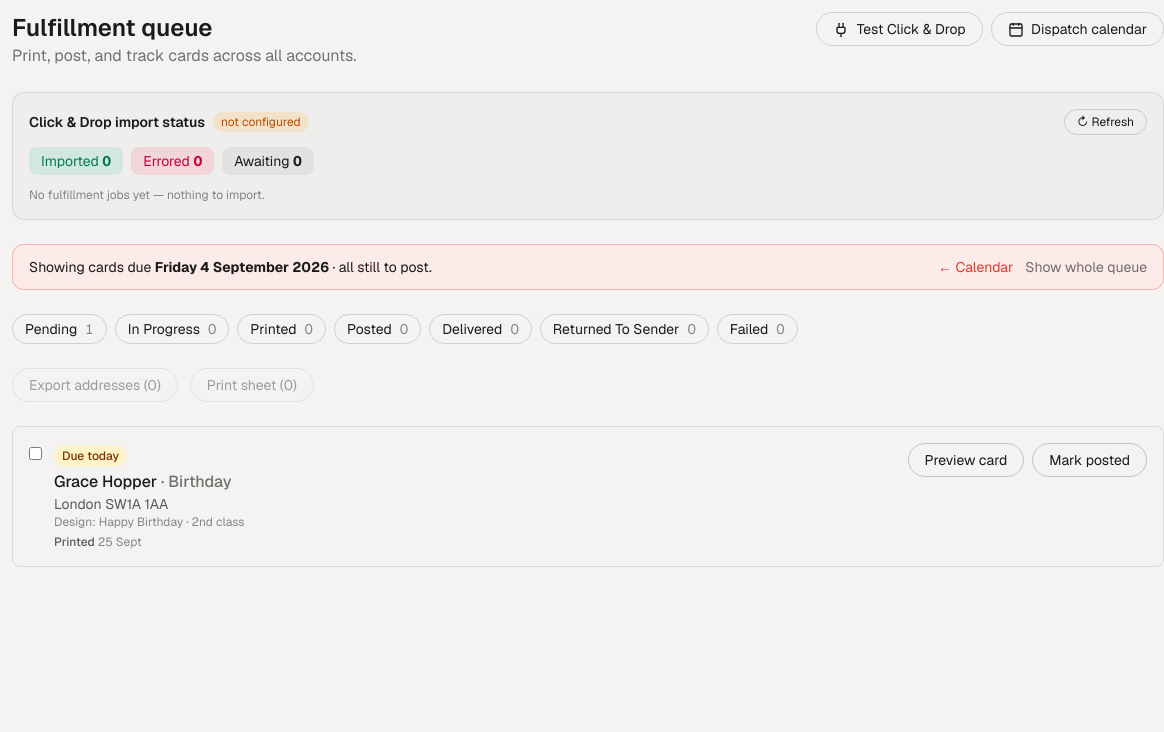
Test: FulfillmentClient — advancing inside a deadline view › removes a card once it is genuinely out of the view
The width and height of the screenshot is (1164, 732).
Step 1. Click the button "Mark posted" → (1090, 460), box 1032,443 -> 1147,477
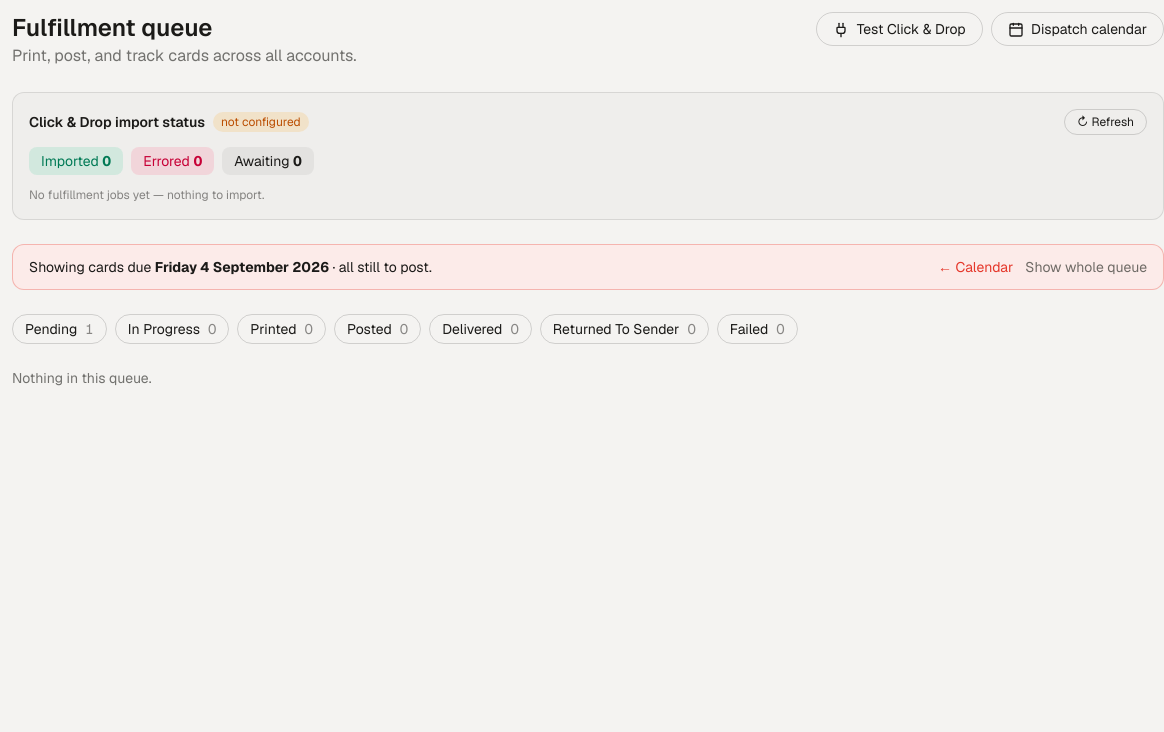
Result: the text "Nothing in this queue." is shown at 12,369 -> 152,387
